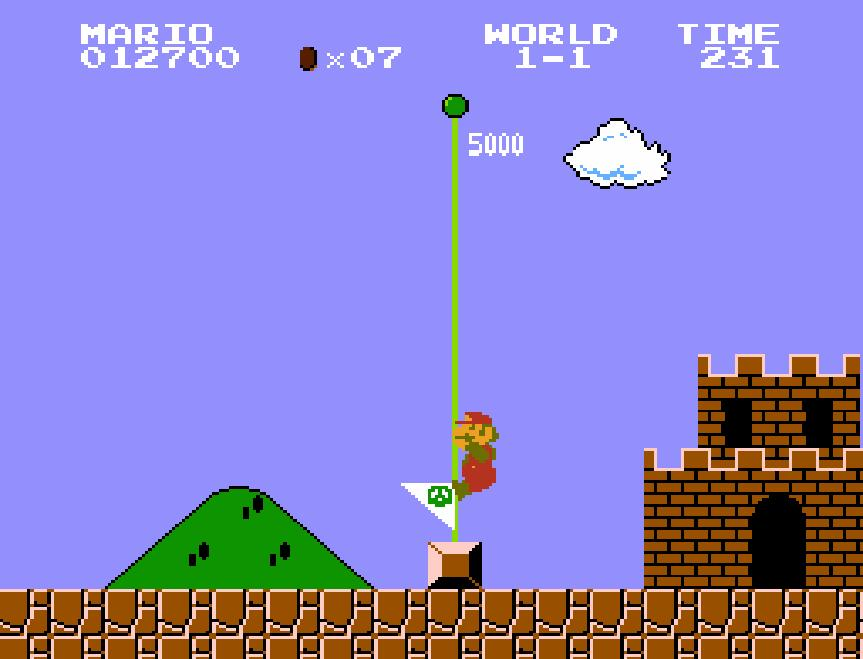big_mario: (450, 404, 508, 502)
